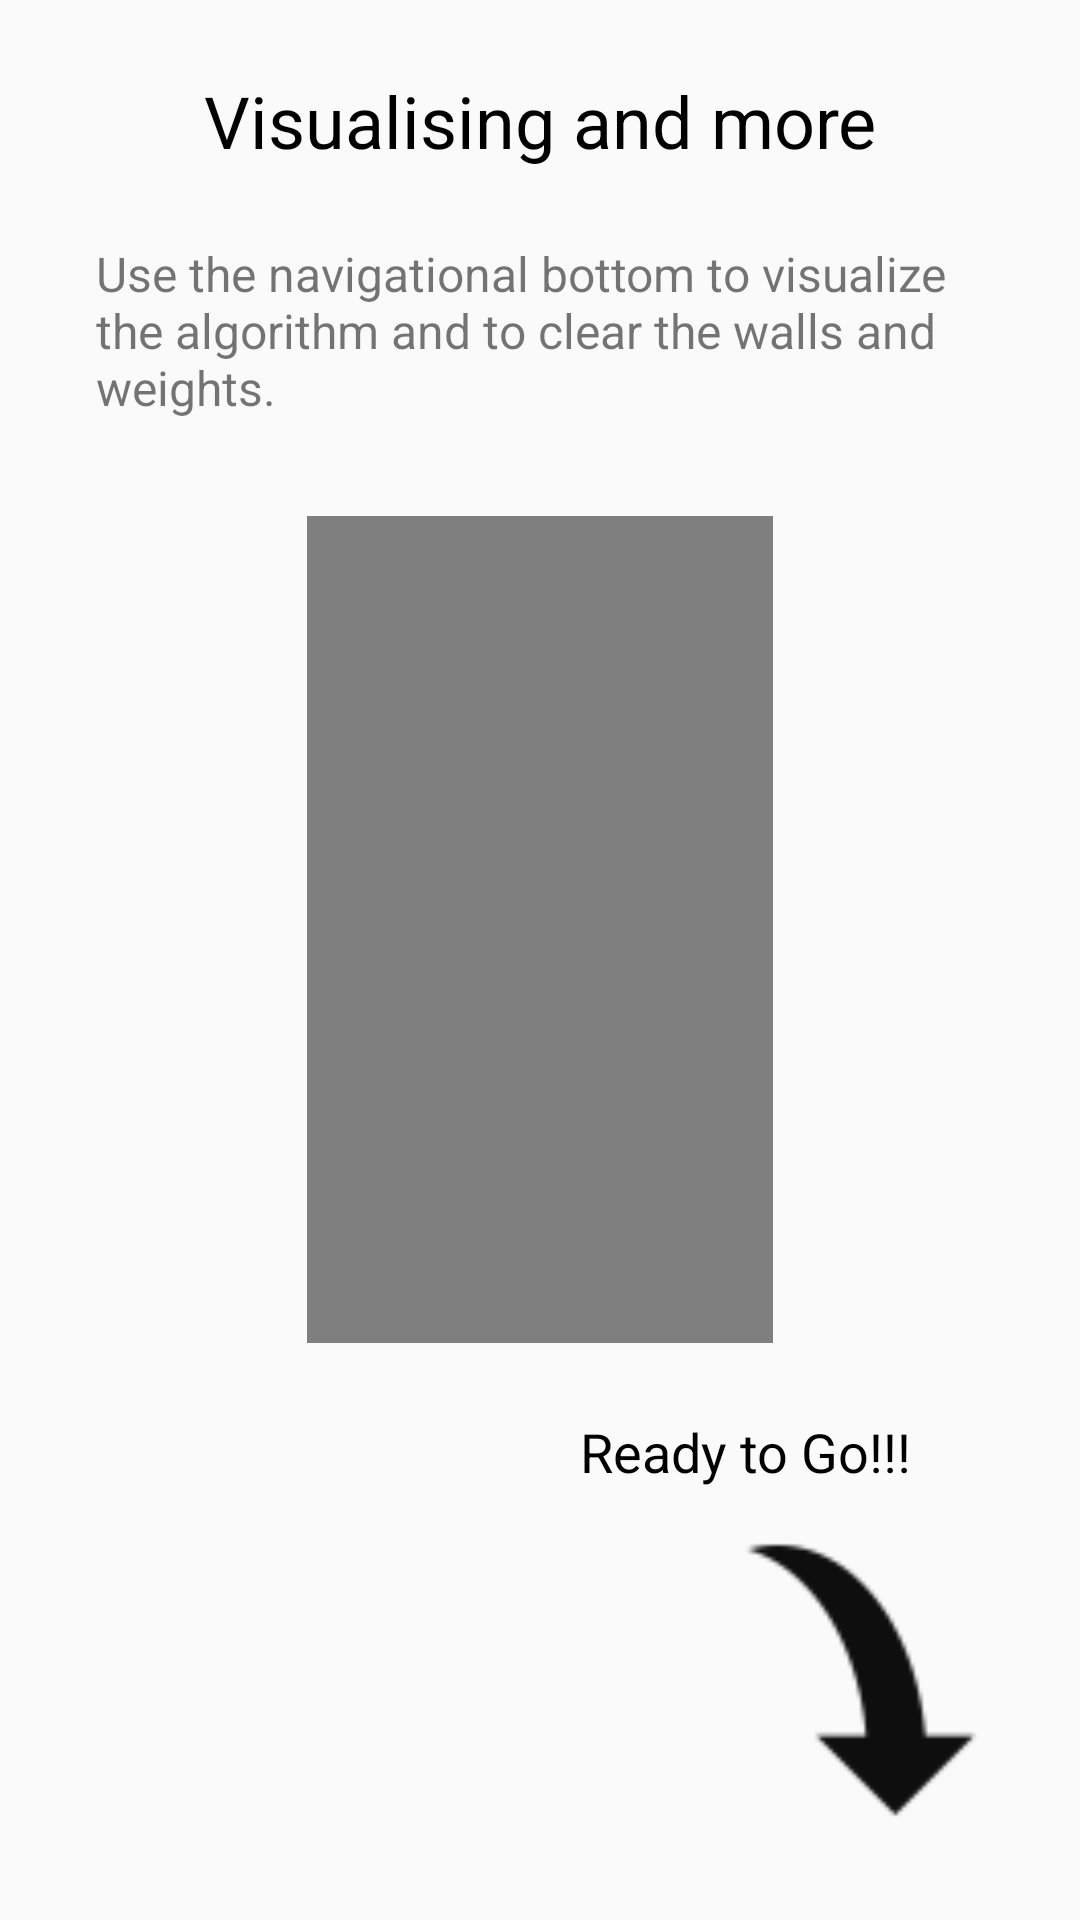

Screen size 1080*1920. Icon name, then its box in pixels as (x1, y1, x2, y2):
down: (749, 1544, 975, 1816)
